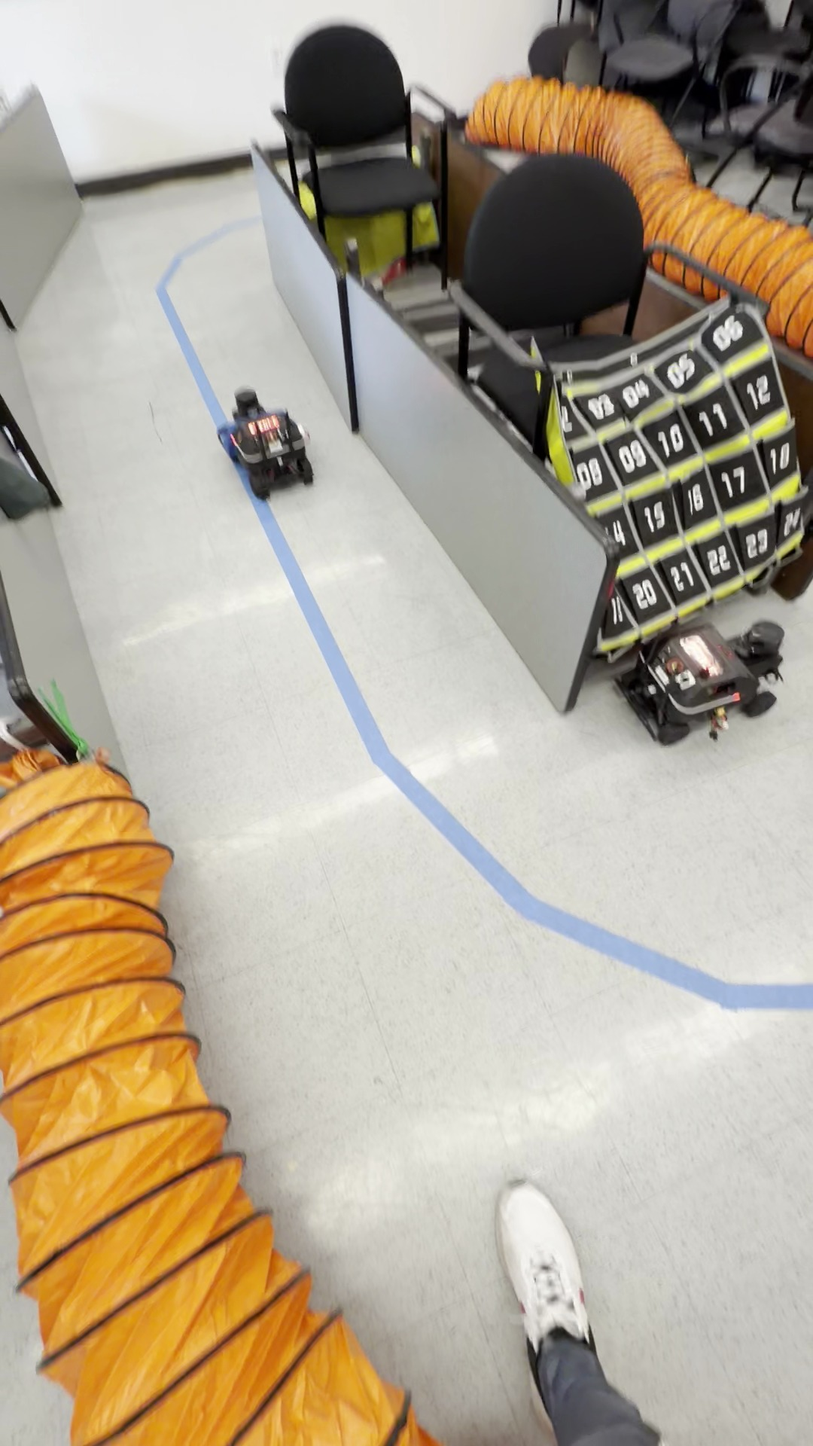racecar: (617, 618, 784, 744), (220, 393, 312, 496)
